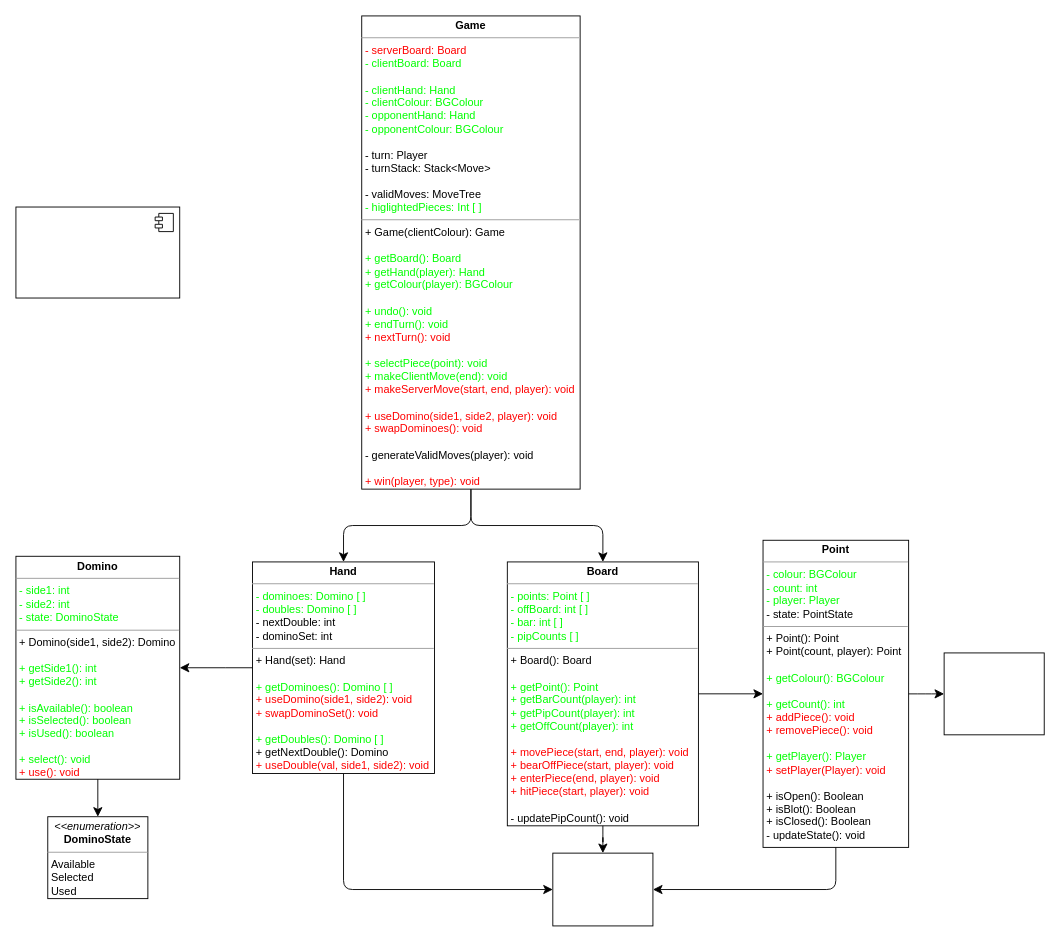
Image size: 1060x942. Some labels were removed from this diagram. The shapes that lost their labels are listed below. From the top down, each one's box as (x1, y1, x2, y2) in pixels, then its label:
(15, 206, 180, 298): «Key» UI State / Actions Internal Client Logic Server Instructions
(943, 652, 1044, 735): <<enumeration>> PointState Open Blot Closed
(552, 852, 653, 926): <<enumeration>> Player Client Opponent
